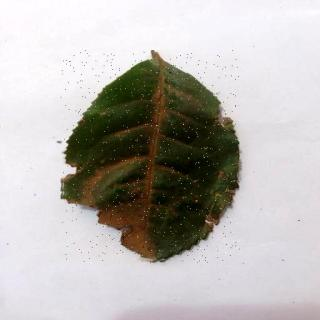Algal Leaf: (62, 51, 242, 263)
